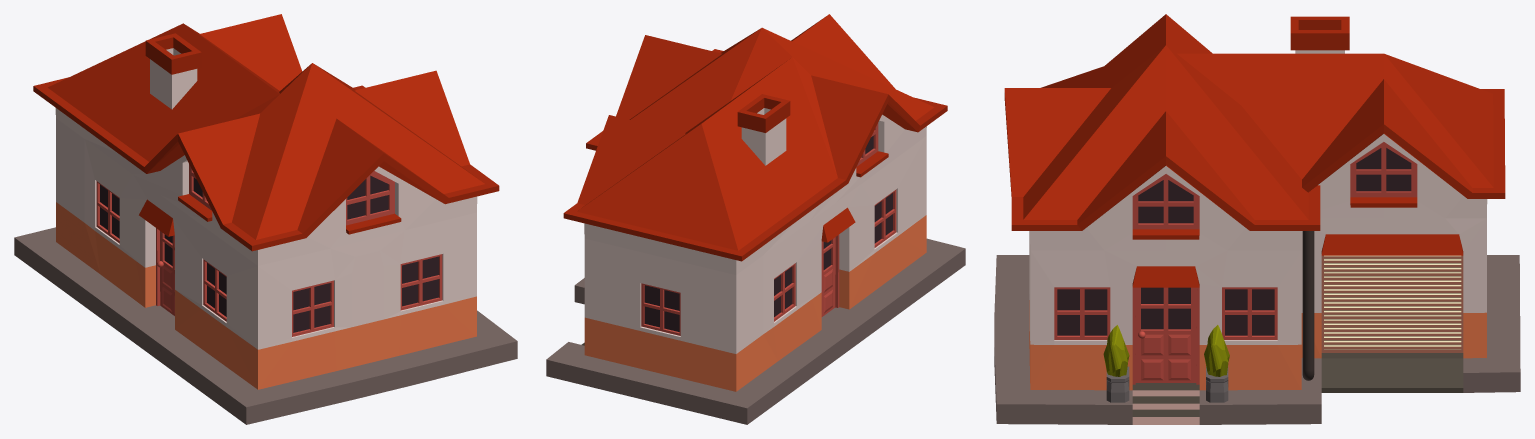
Rendered from PublicBuilding_7C.obj.
3 renders of one model, left to right at view 1: azimuth 30°, elevation 25°; view 2: azimuth 150°, elevation 25°; view 3: azimuth 270°, elevation 25°, orthographic. The views are drawn at different scales.
Visible parts, largest first — view 1: PublicBuilding_7; view 2: PublicBuilding_7; view 3: PublicBuilding_7.
Part boxes in pixels (x1,y1,x2,y2): PublicBuilding_7: (14, 14, 517, 424); PublicBuilding_7: (546, 14, 965, 424); PublicBuilding_7: (994, 14, 1520, 424).
Size of what is drawn, in the model's own units: 3.24 by 3.09 by 4.79.
Materials: 1 (1 with a texture image).
